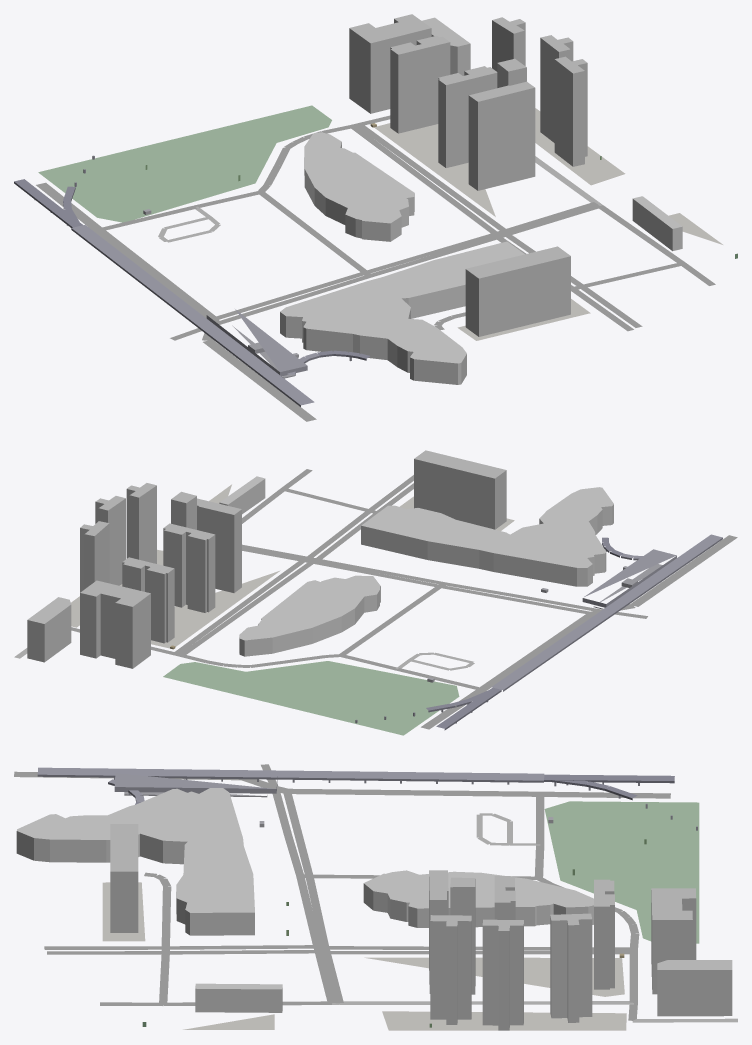
The picture shows the model from 3 angles, top to bottom: view 1: azimuth 30°, elevation 25°; view 2: azimuth 150°, elevation 25°; view 3: azimuth 270°, elevation 25°; orthographic projection. The views are drawn at different scales.
Bounding box in the file's own units: 524 × 99.77 × 607.
